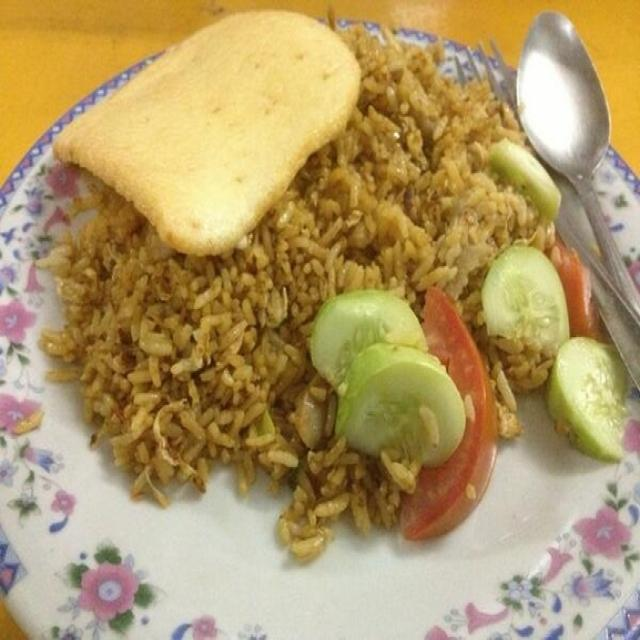米饭主食: (30, 26, 621, 602)
